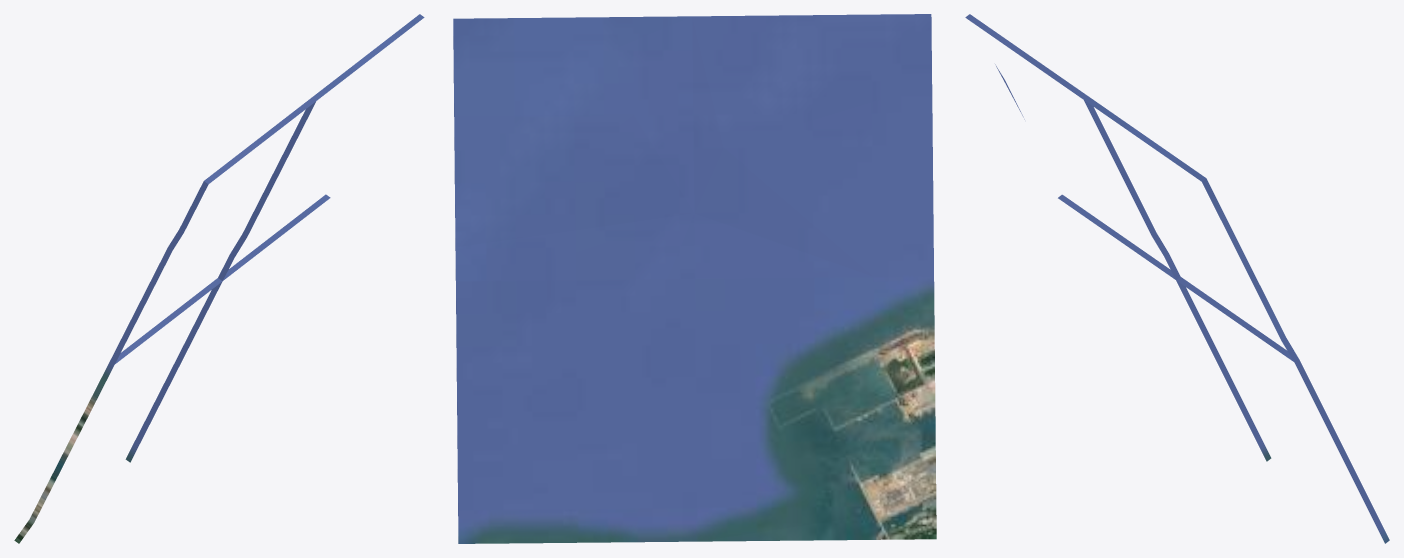
The picture shows the model from 3 angles, left to right: view 1: azimuth 30°, elevation 25°; view 2: azimuth 150°, elevation 25°; view 3: azimuth 270°, elevation 25°; orthographic projection. The views are drawn at different scales.
Size of the model in its own units: 9866 by 8870 by 8294.
Materials: 1 (1 with a texture image).
